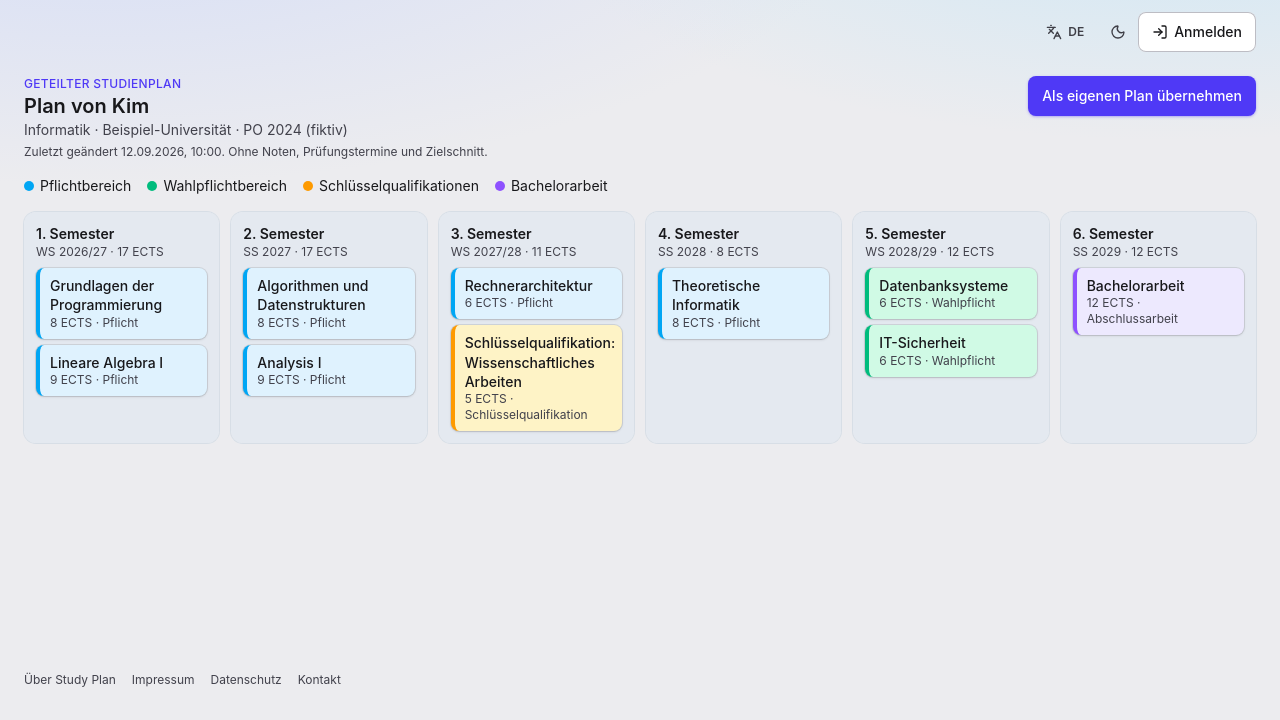
it: shared plans › opens the details of a module from its card
The image size is (1280, 720).
What coordinates should you click on to do the following:
click the button "Grundlagen der Programmierung 8 ECTS · Pflicht"
I would click on:
 (124, 303)
Its box is [40, 268, 207, 338].
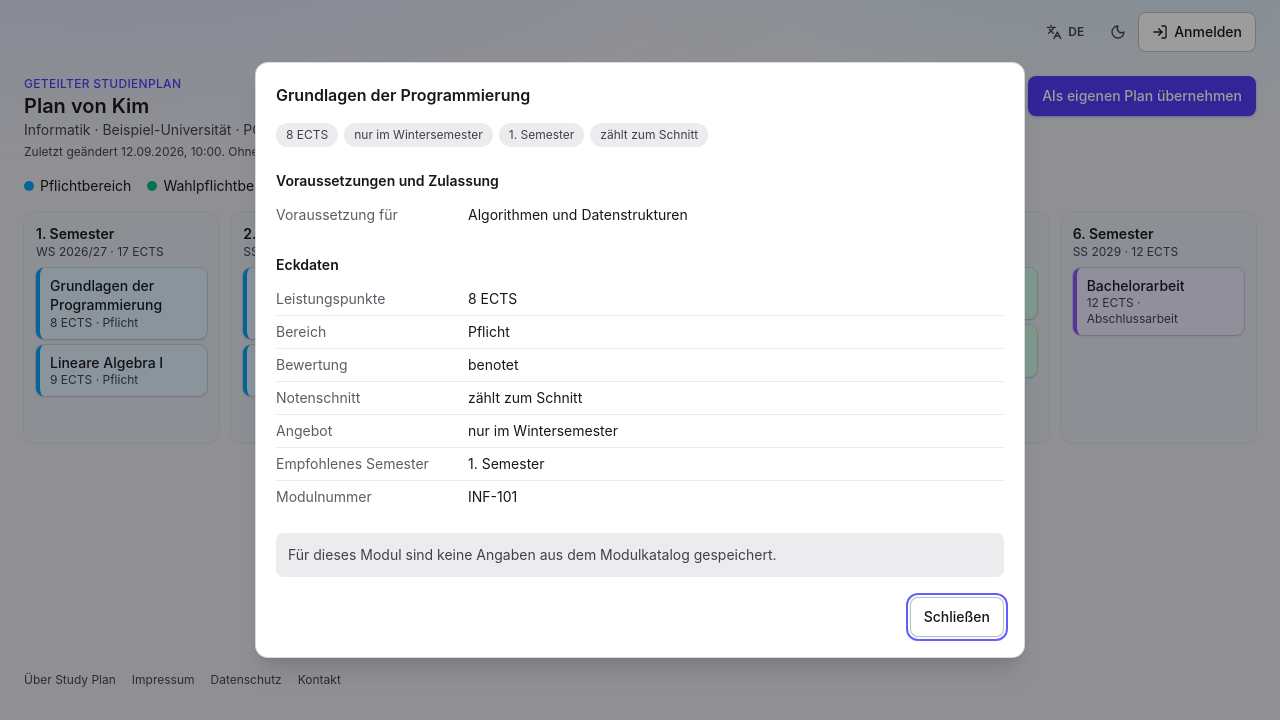
expect the dialog "Grundlagen der Programmierung" is shown: met, box [256, 63, 1024, 657]
